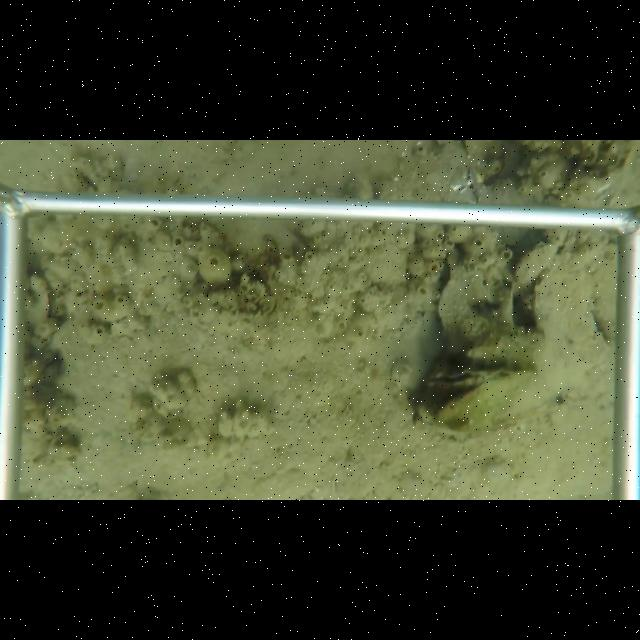Oyster-Closed: (527, 230, 611, 336), (437, 240, 494, 357)
Oyster-Open: (420, 367, 536, 389)
